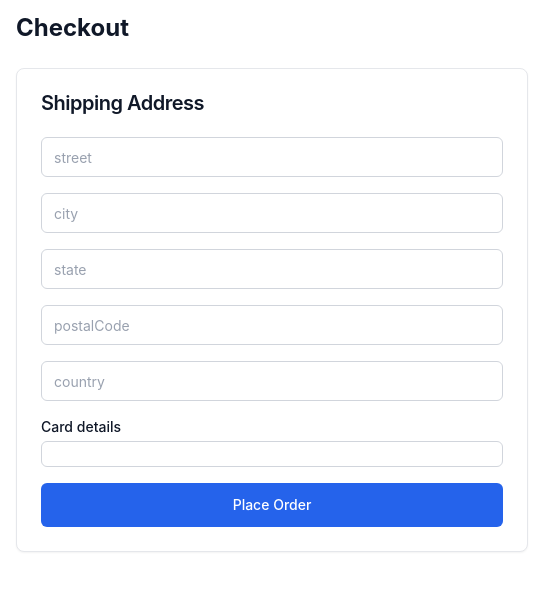
Test case: CheckoutPage › shows the failure reason and does not navigate when payment is declined
Type "123 Dev Lane" into the field labelled "street" at [272, 157], box [41,137,503,177]
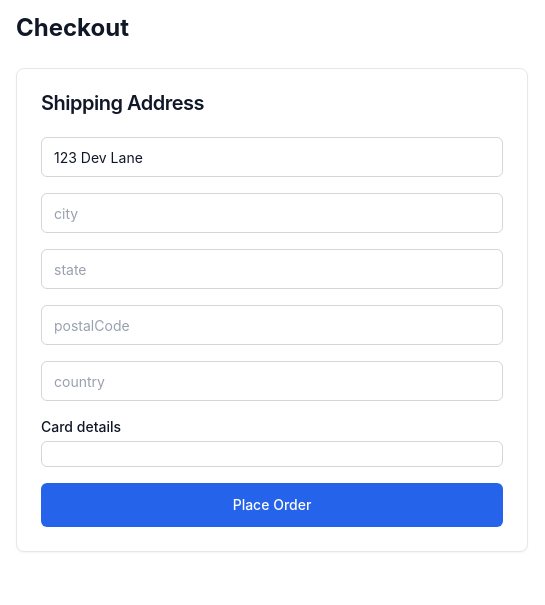
Type "Cloud City" into the field labelled "city" at [272, 213], box [41,193,503,233]
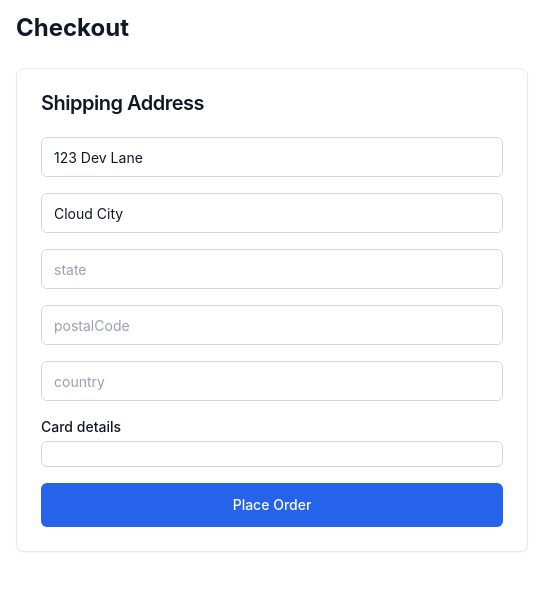
Type "K8s" into the field labelled "state" at [272, 269], box [41,249,503,289]
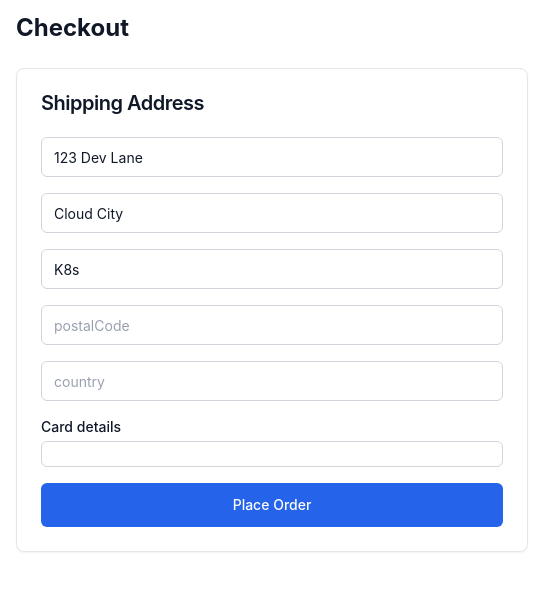
Type "10101" into the field labelled "postalCode" at [272, 325], box [41,305,503,345]
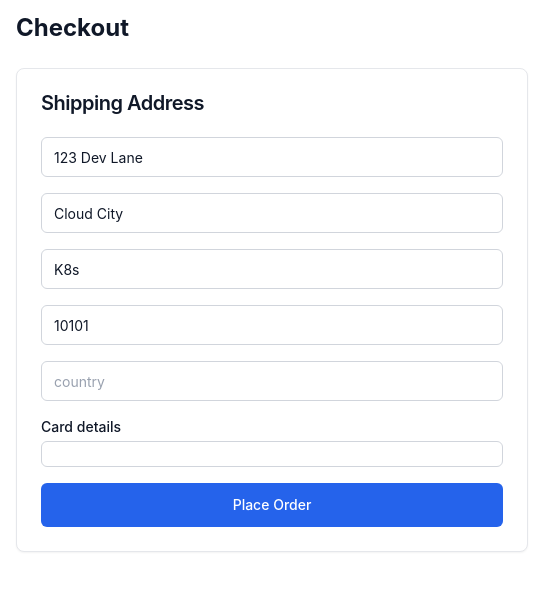
Type "US" into the field labelled "country" at [272, 381], box [41,361,503,401]
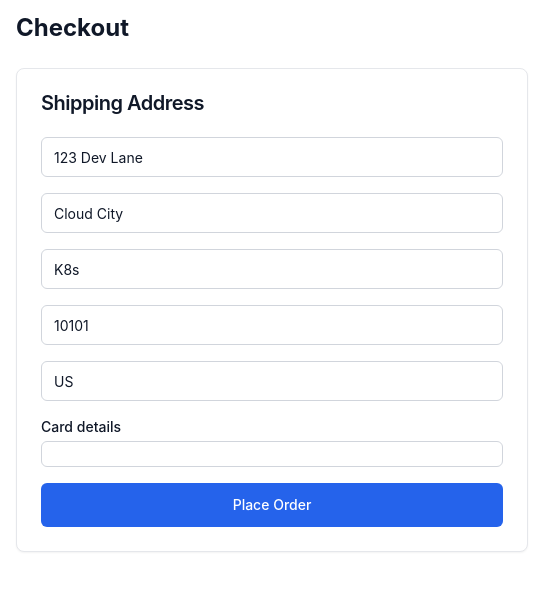
Click the button "Place Order" at [272, 505], box [41,483,503,527]
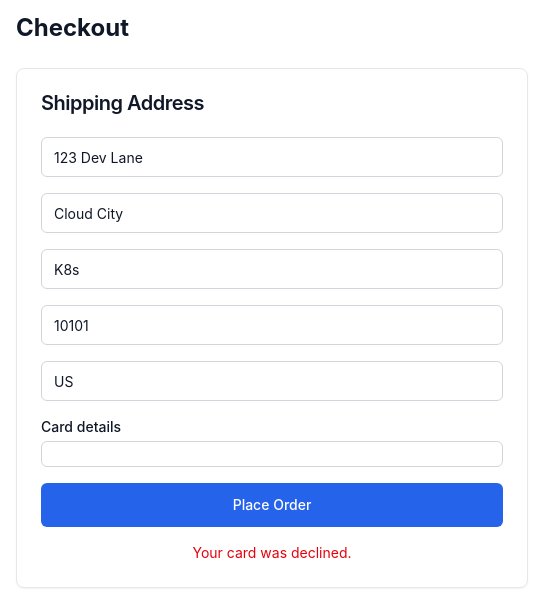
Now the text "Your card was declined." is shown, box [192,544,352,561]
